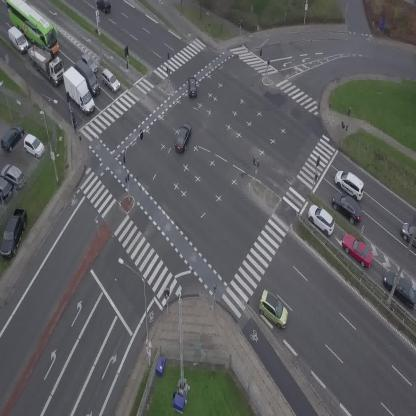bicycle: (71, 115, 79, 132)
car: (251, 288, 297, 332), (337, 229, 379, 272), (327, 187, 368, 227), (330, 166, 370, 202), (303, 201, 341, 238), (171, 121, 195, 154), (97, 67, 124, 95), (79, 51, 102, 74), (401, 222, 416, 247), (188, 75, 197, 98), (96, 0, 111, 13)
lorry: (17, 34, 73, 89), (58, 63, 97, 118), (72, 57, 104, 99), (3, 25, 33, 54)
